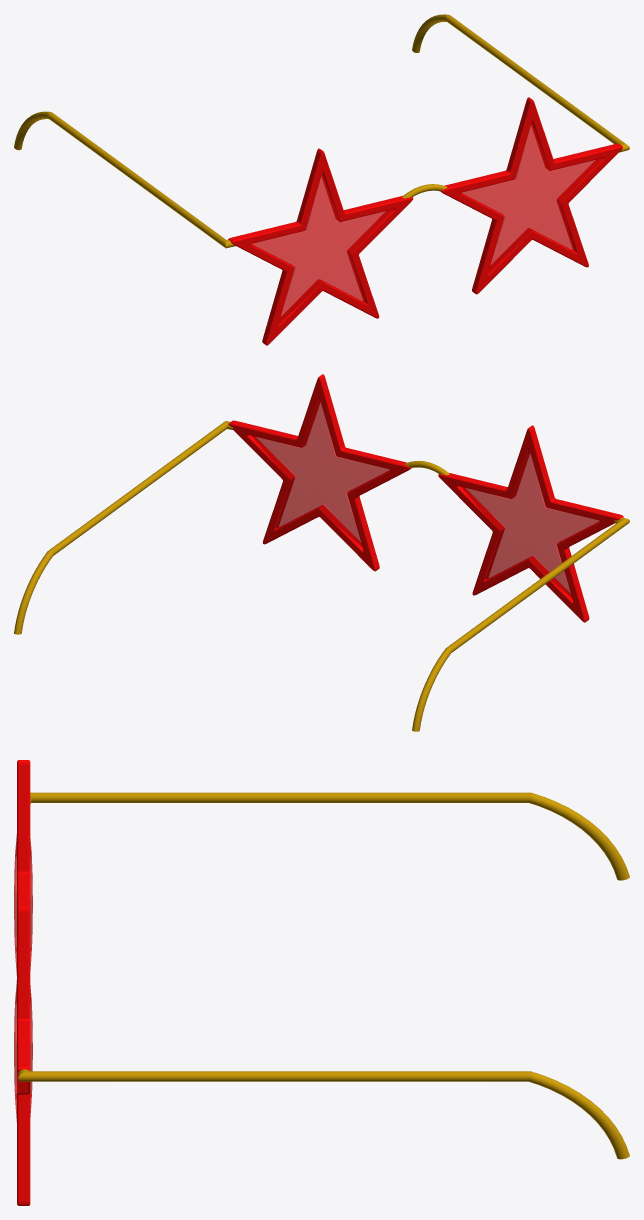
The model's file is SecretGlasses_rbz.fbx.
3 views of the same model, one above another, from view 1: azimuth 30°, elevation 25°; view 2: azimuth 150°, elevation 25°; view 3: azimuth 270°, elevation 25° (orthographic). The views are drawn at different scales.
Parts seen in each view (by area): view 1: Componente_2_2, Componente_2_1, Componente_1_1, Componente_1_2, Group2; view 2: Componente_2_2, Componente_2_1, Componente_1_2, Componente_1_1, Group2; view 3: Group2, Componente_2_2, Componente_2_1, Componente_1_1, Componente_1_2.
Part boxes in pixels (<box>): Componente_2_2: <box>440,97,622,294</box>; Componente_2_1: <box>228,148,413,345</box>; Componente_1_1: <box>252,174,390,321</box>; Componente_1_2: <box>461,123,599,270</box>; Group2: <box>14,14,629,248</box>; Componente_2_2: <box>228,374,411,571</box>; Componente_2_1: <box>438,425,623,622</box>; Componente_1_2: <box>252,400,389,547</box>; Componente_1_1: <box>461,451,599,597</box>; Group2: <box>14,421,629,731</box>; Group2: <box>18,792,629,1159</box>; Componente_2_2: <box>17,907,30,1205</box>; Componente_2_1: <box>17,760,30,907</box>; Componente_1_1: <box>14,834,32,975</box>; Componente_1_2: <box>14,980,32,1122</box>.
Bounding box in the file's own units: 151 × 64.47 × 139.
